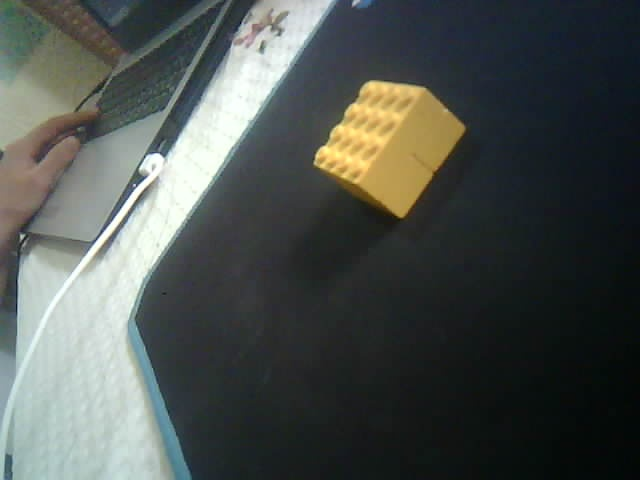lego: (311, 78, 468, 222)
